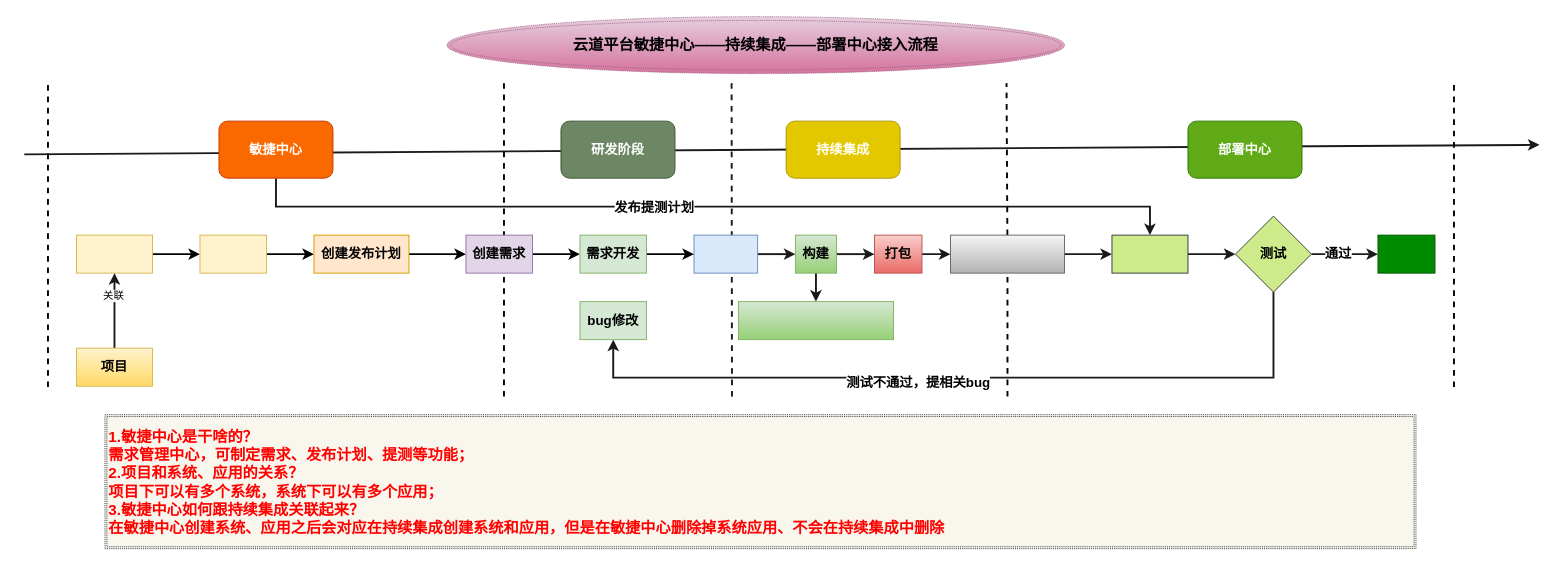
This 1564x565 diagram has some shape labels left out. The shapes that lost their labels are listed below. From the top down, each one's centre as x and y in pixels, then its label:
the point at 114,253: 创建系统
the point at 232,253: 创建应用
the point at 725,253: 代码托管
the point at 1007,253: 生成制品
the point at 1149,253: 部署测试
the point at 1406,253: 发布生产
the point at 815,320: 安全审计、代码静态扫描
